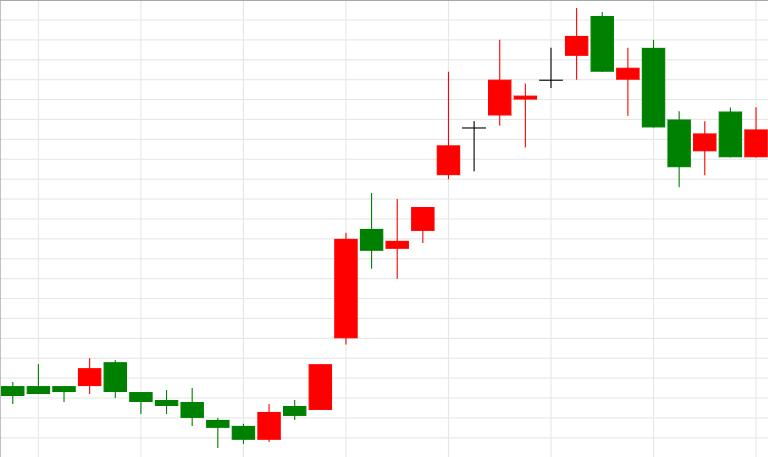shooting_star_fall: (309, 40, 511, 409), (309, 72, 461, 409)
